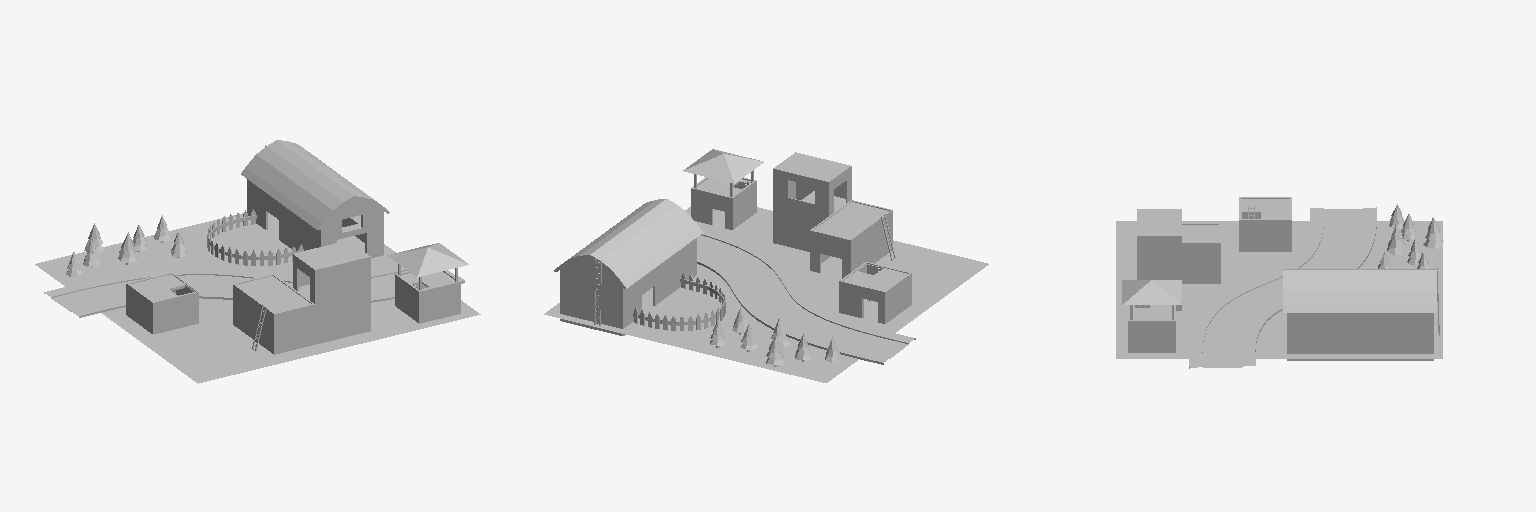
Rendered from full_starting_map (5).obj.
The picture shows the model from 3 angles: view 1: azimuth 30°, elevation 25°; view 2: azimuth 150°, elevation 25°; view 3: azimuth 270°, elevation 25°; orthographic projection.
Parts seen in each view (by area): view 1: Plane, Barn, BigBuilding1, Road, BigBuilding2, Building2, Building1, Barn_Fence; view 2: Plane, Barn, Road, BigBuilding1, BigBuilding2, Building2, Building1, Barn_Fence; view 3: Barn, Plane, Road, Building2, BigBuilding1, Building1, BigBuilding2.
Part boxes in pixels (bbox=[...]): Plane: bbox=[35, 213, 480, 383]; Barn: bbox=[241, 140, 389, 257]; BigBuilding1: bbox=[293, 240, 370, 344]; Road: bbox=[44, 265, 464, 317]; BigBuilding2: bbox=[233, 274, 314, 354]; Building2: bbox=[387, 243, 468, 323]; Building1: bbox=[126, 272, 198, 334]; Barn_Fence: bbox=[207, 209, 303, 265]; Plane: bbox=[544, 207, 988, 382]; Barn: bbox=[554, 199, 702, 335]; Road: bbox=[697, 227, 915, 364]; BigBuilding1: bbox=[773, 152, 851, 251]; BigBuilding2: bbox=[810, 200, 892, 278]; Building2: bbox=[683, 149, 763, 229]; Building1: bbox=[839, 262, 911, 323]; Barn_Fence: bbox=[633, 273, 725, 330]; Barn: bbox=[1283, 269, 1436, 360]; Plane: bbox=[1116, 221, 1442, 358]; Road: bbox=[1189, 207, 1376, 368]; Building2: bbox=[1122, 280, 1181, 352]; BigBuilding1: bbox=[1137, 209, 1181, 310]; Building1: bbox=[1239, 197, 1291, 251]; BigBuilding2: bbox=[1182, 223, 1220, 283].
Size of the model in its own units: 128 by 30.6 by 111.